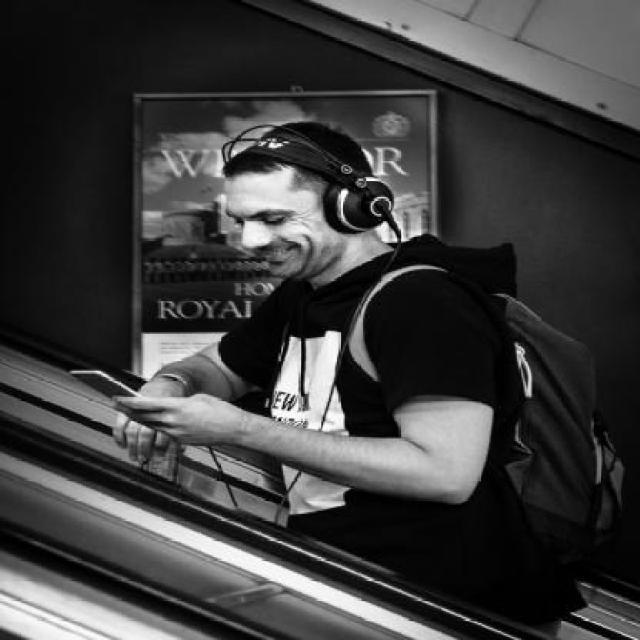earphone: (227, 107, 425, 228)
smart phone: (68, 360, 150, 412)
